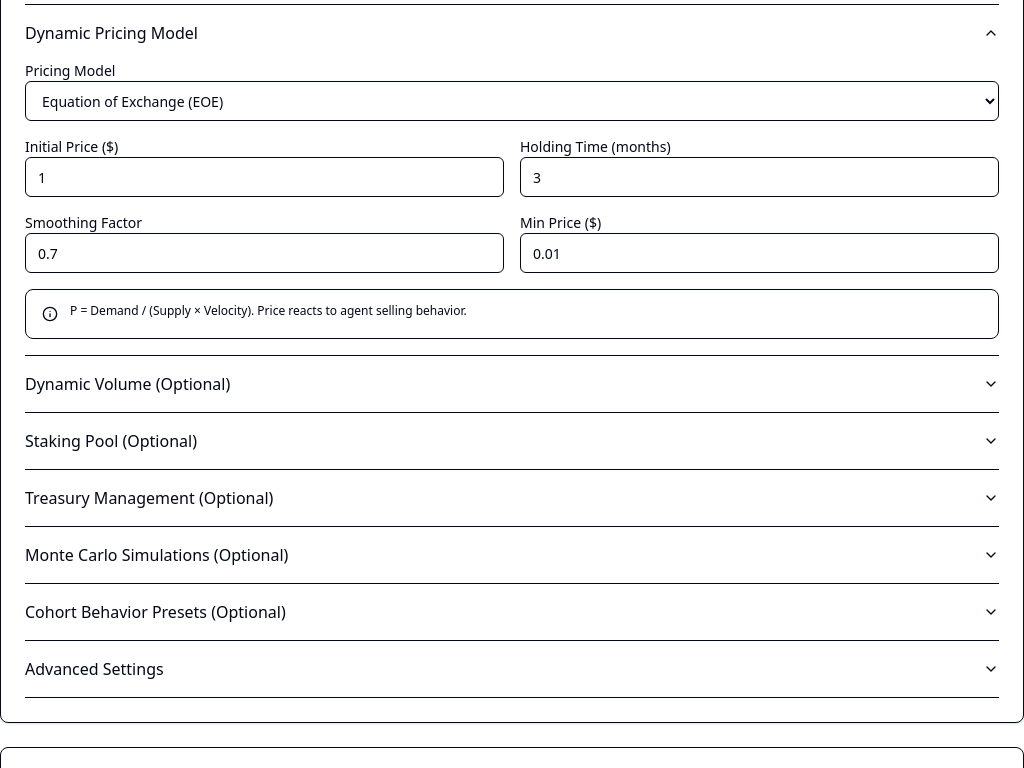
it: ABM Configuration Form - User Interactions › Volume Configuration › selects volume model (proportional vs constant)
(page scrolled)
Note: Click volume accordion to expand it
Click the button "Dynamic Volume (Optional)" at {"x": 128, "y": 384}, box [25,356,999,412]
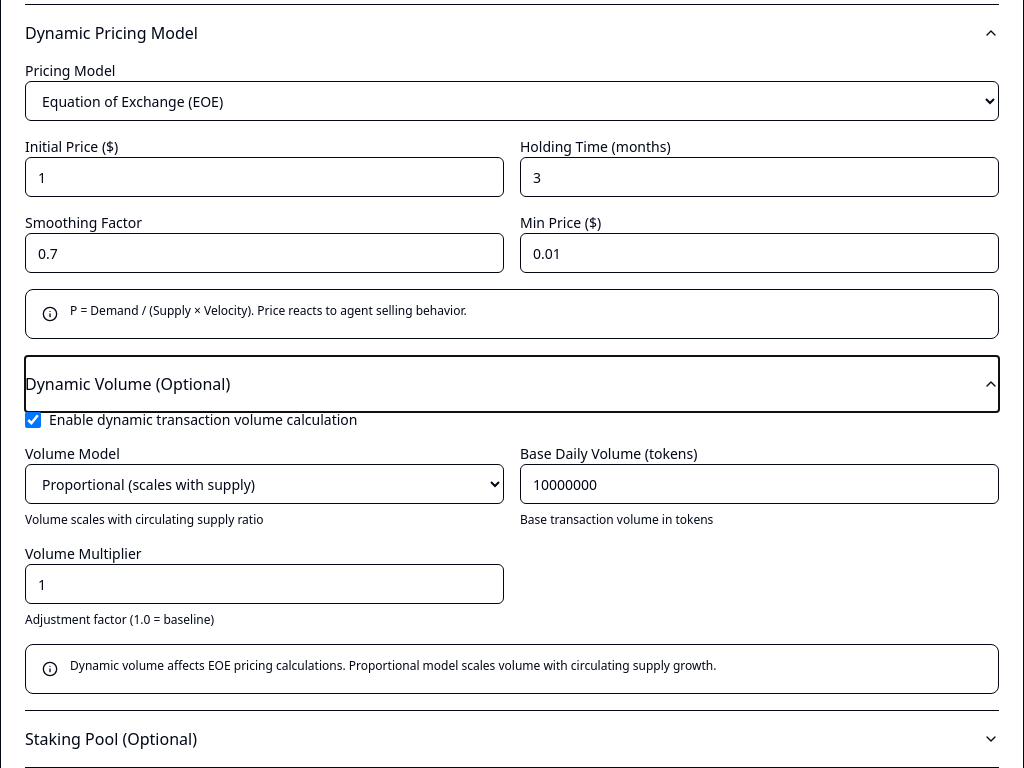
Select "Proportional (scales with supply)" in the dropdown labelled "Volume Model" at {"x": 264, "y": 484}, box [25,464,504,504]
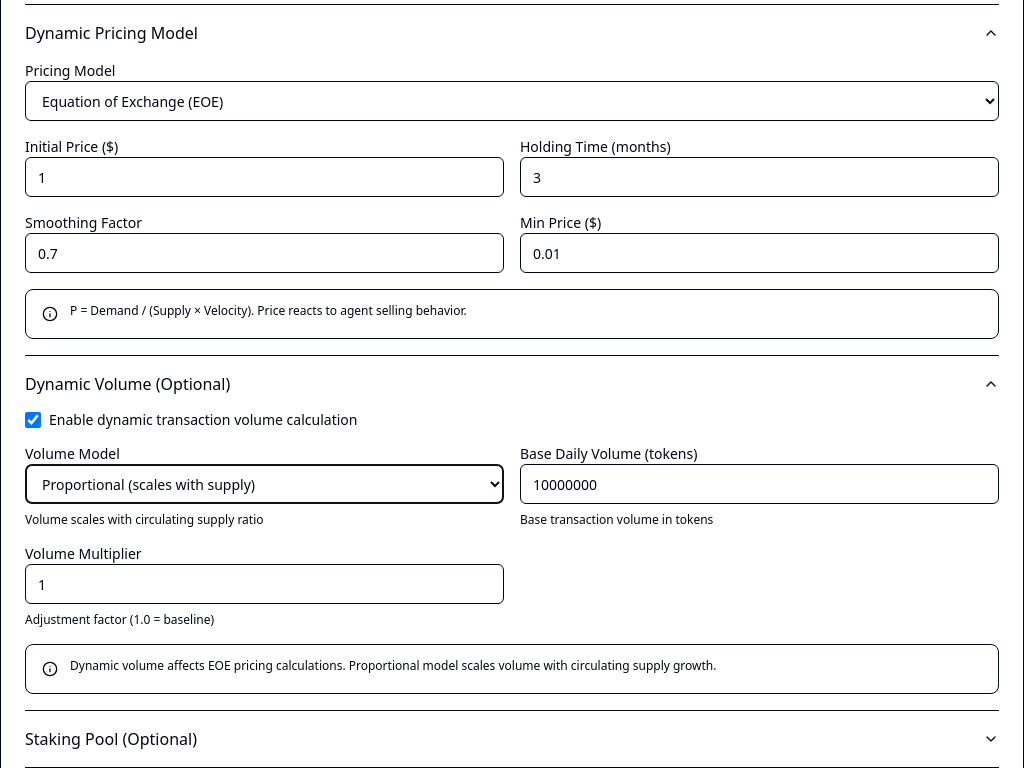
Now the text "Volume scales with circulating supply ratio" is shown, box [25,511,264,528]
Select "Constant (fixed)" in the dropdown labelled "Volume Model" at {"x": 264, "y": 484}, box [25,464,504,504]
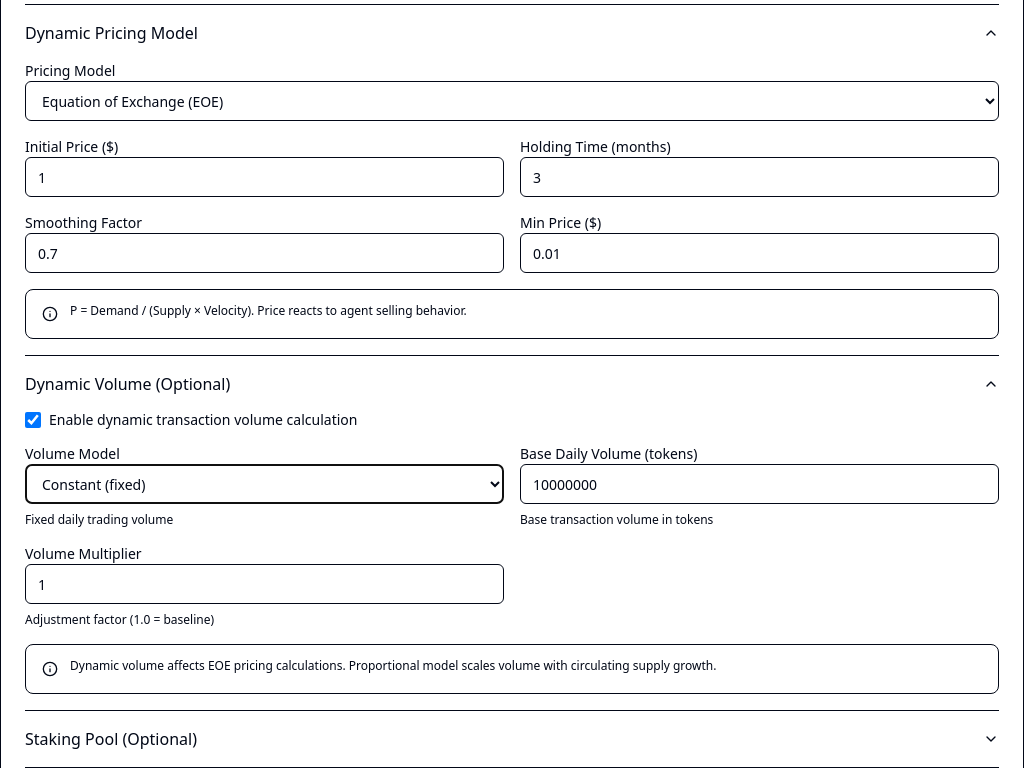
Now the text "Fixed daily trading volume" is shown, box [25,511,173,528]
